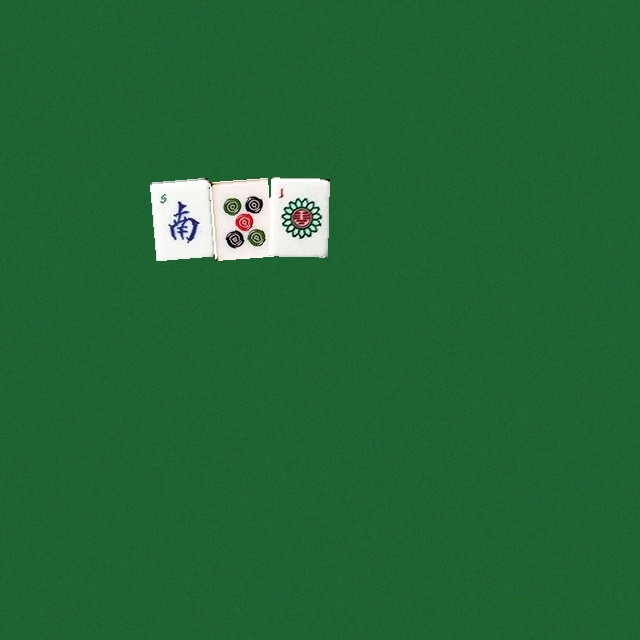tile: (149, 177, 208, 256), (209, 177, 268, 256), (269, 177, 328, 256)
